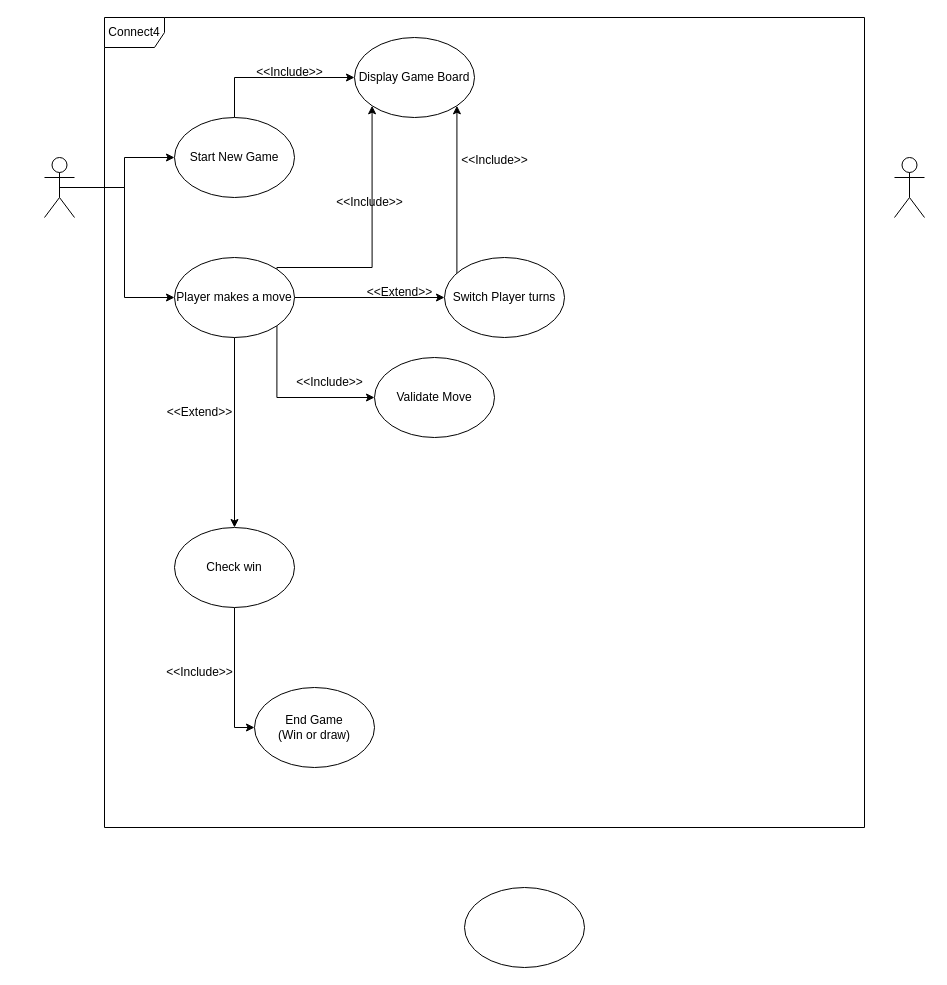
This 947x985 diagram has some shape labels left out. Each missing label, with the centre of its shape:
Display Game Result: (524,927)
Player1/Player2: (59,187)
System: (909,187)
